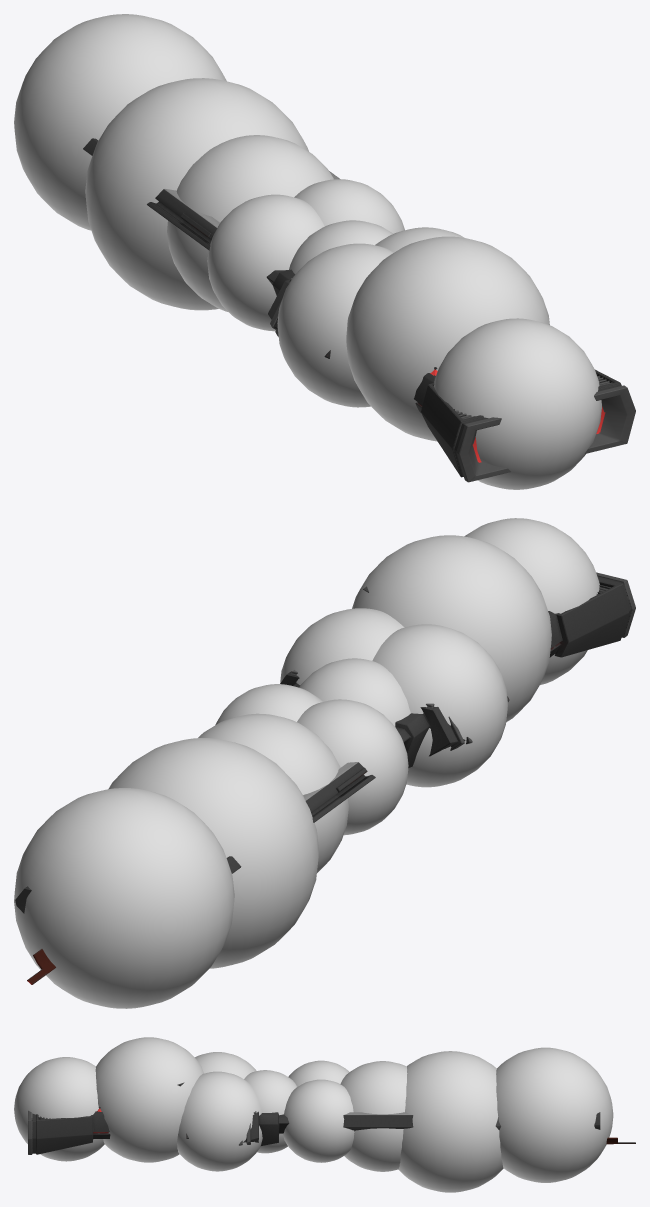
Rendered from cruiserPrototype.fbx.
3 views of the same model, one above another, from view 1: azimuth 30°, elevation 25°; view 2: azimuth 150°, elevation 25°; view 3: azimuth 270°, elevation 25° (orthographic). The views are drawn at different scales.
Visible parts, largest first — view 1: boidAvoid.001, boidAvoid.008, boidAvoid, boidAvoid.009, boidAvoid.007, boidAvoid.002, boidAvoid.004, Circle.010, boidAvoid.003, boidAvoid.005, CruiserFront.002, boidAvoid.006; view 2: boidAvoid, boidAvoid.001, boidAvoid.008, boidAvoid.007, boidAvoid.004, boidAvoid.009, Circle.010, boidAvoid.002, boidAvoid.006, boidAvoid.005, CruiserFront.002, boidAvoid.003; view 3: boidAvoid, boidAvoid.001, boidAvoid.008, boidAvoid.006, boidAvoid.009, boidAvoid.002, boidAvoid.003, Circle.010, boidAvoid.005, CruiserFront.002, boidAvoid.007, boidAvoid.004.
Boxes of the visible parts, <box> form: boidAvoid.001: <box>85,78,308,310</box>; boidAvoid.008: <box>346,236,549,441</box>; boidAvoid: <box>14,14,226,230</box>; boidAvoid.009: <box>433,318,601,489</box>; boidAvoid.007: <box>277,243,392,407</box>; boidAvoid.002: <box>167,135,333,311</box>; boidAvoid.004: <box>207,194,324,331</box>; Circle.010: <box>266,269,635,482</box>; boidAvoid.003: <box>294,179,404,233</box>; boidAvoid.005: <box>289,220,393,274</box>; CruiserFront.002: <box>83,138,339,250</box>; boidAvoid.006: <box>375,227,464,252</box>; boidAvoid: <box>14,788,234,1008</box>; boidAvoid.001: <box>108,738,318,968</box>; boidAvoid.008: <box>352,535,551,721</box>; boidAvoid.007: <box>372,624,507,787</box>; boidAvoid.004: <box>297,699,408,835</box>; boidAvoid.009: <box>464,518,599,684</box>; Circle.010: <box>280,572,635,767</box>; boidAvoid.002: <box>198,713,348,872</box>; boidAvoid.006: <box>280,608,404,685</box>; boidAvoid.005: <box>299,658,410,726</box>; CruiserFront.002: <box>15,762,375,984</box>; boidAvoid.003: <box>215,684,322,724</box>; boidAvoid: <box>496,1047,613,1182</box>; boidAvoid.001: <box>398,1051,503,1192</box>; boidAvoid.008: <box>95,1037,203,1162</box>; boidAvoid.006: <box>177,1071,262,1171</box>; boidAvoid.009: <box>14,1057,104,1161</box>; boidAvoid.002: <box>340,1061,407,1171</box>; boidAvoid.003: <box>283,1079,354,1162</box>; Circle.010: <box>28,1107,289,1154</box>; boidAvoid.005: <box>244,1070,296,1153</box>; CruiserFront.002: <box>343,1112,635,1144</box>; boidAvoid.007: <box>195,1052,256,1078</box>; boidAvoid.004: <box>288,1060,349,1086</box>.
Bounding box in the file's own units: 158 × 170 × 669.
Materials: 1 (1 with a texture image).
